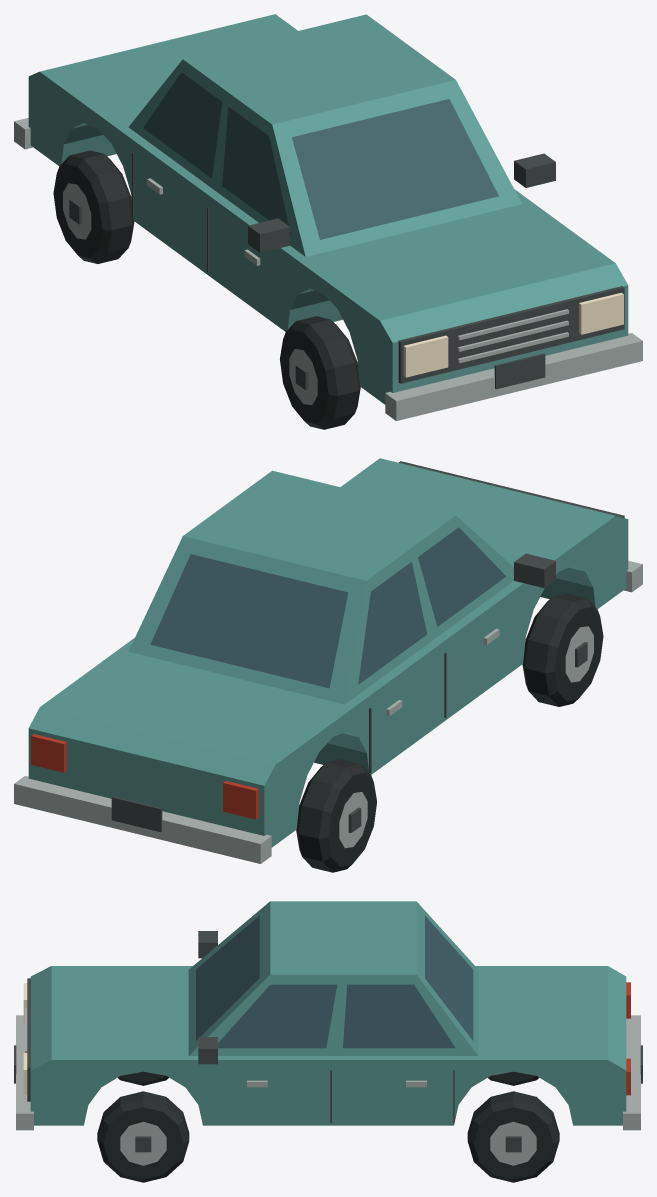
Rendered from Sedan.fbx.
3 renders of one model, top to bottom at view 1: azimuth 30°, elevation 25°; view 2: azimuth 150°, elevation 25°; view 3: azimuth 270°, elevation 25°, orthographic. The views are drawn at different scales.
Visible parts, largest first — view 1: Body, Wheel_Front_Left, Wheel_Rear_Left; view 2: Body, Wheel_Front_Left, Wheel_Rear_Left; view 3: Body, Wheel_Front_Right, Wheel_Rear_Right, Wheel_Front_Left, Wheel_Rear_Left.
Boxes of the visible parts, left/top/right/bottom form: Body: left=14, top=14, right=642, bottom=420; Wheel_Front_Left: left=280, top=316, right=360, bottom=429; Wheel_Rear_Left: left=53, top=150, right=134, bottom=263; Body: left=14, top=458, right=642, bottom=863; Wheel_Front_Left: left=522, top=593, right=603, bottom=706; Wheel_Rear_Left: left=296, top=759, right=376, bottom=872; Body: left=14, top=901, right=642, bottom=1130; Wheel_Front_Right: left=97, top=1091, right=189, bottom=1182; Wheel_Rear_Right: left=467, top=1091, right=559, bottom=1182; Wheel_Front_Left: left=118, top=1071, right=168, bottom=1085; Wheel_Rear_Left: left=488, top=1071, right=538, bottom=1085.
Bounding box in the file's own units: 216 × 164 × 486.
